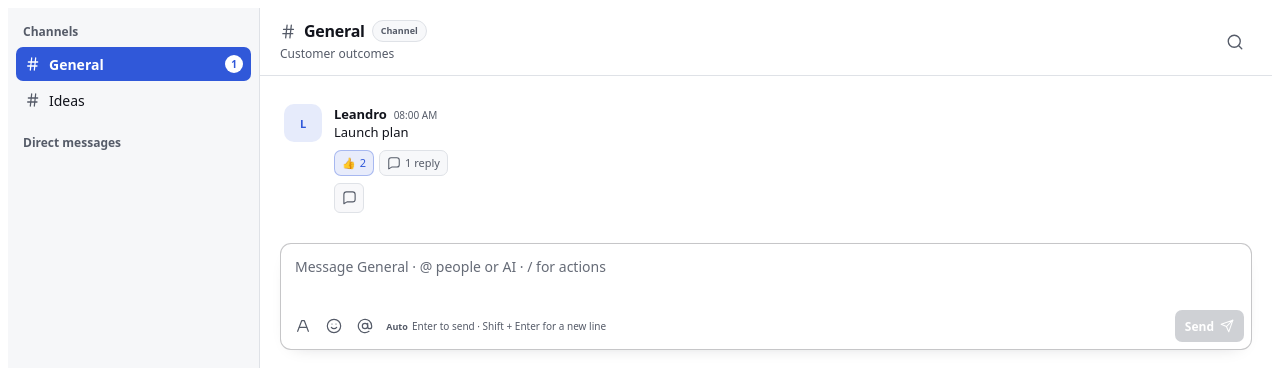
it: React 18 host compatibility › uses server-backed search when the host exposes history search
This screenshot has width=1280, height=385.
Step 1. Click the button named "Search" → [1235, 42], box top-left (1218, 24), bottom-right (1252, 58)
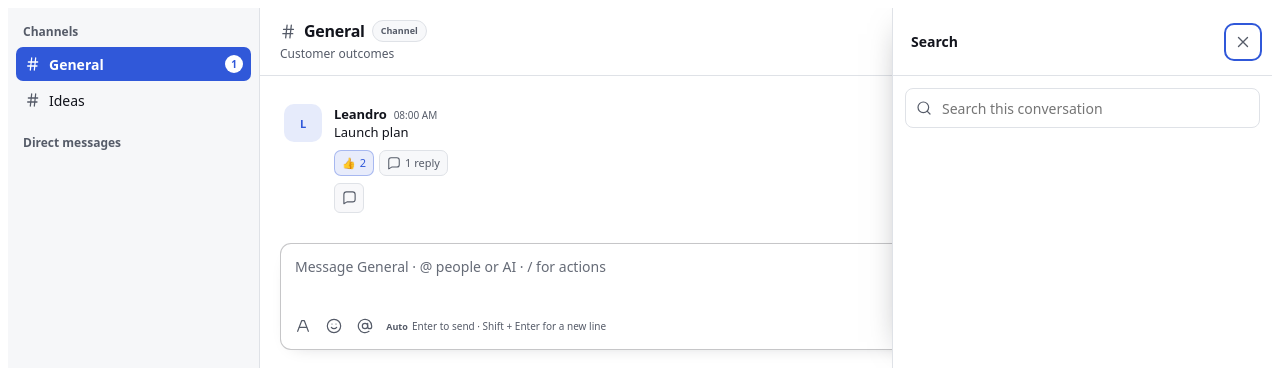
Step 2. Type "customer decision" into the search field named "Search messages" → [1094, 108], box top-left (940, 89), bottom-right (1249, 127)
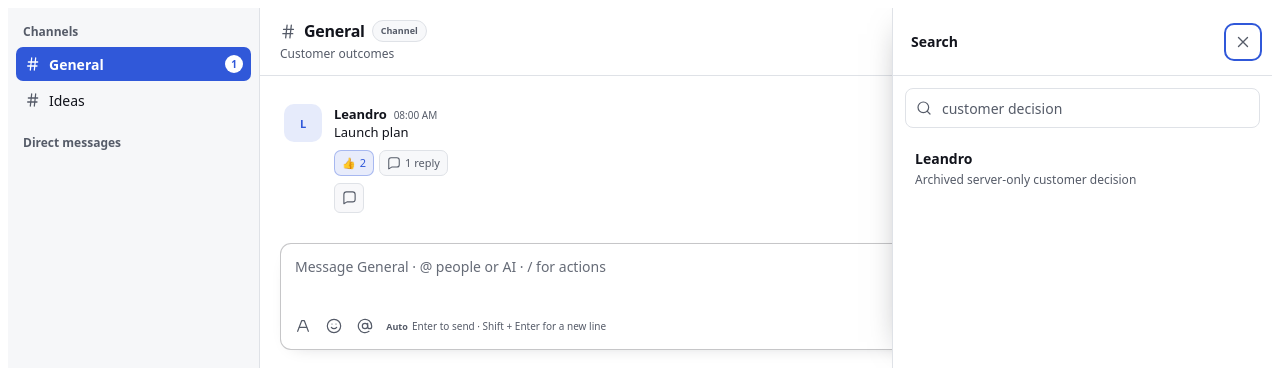
Check: the text "Archived server-only customer decision" is shown, box top-left (915, 171), bottom-right (1136, 188)
